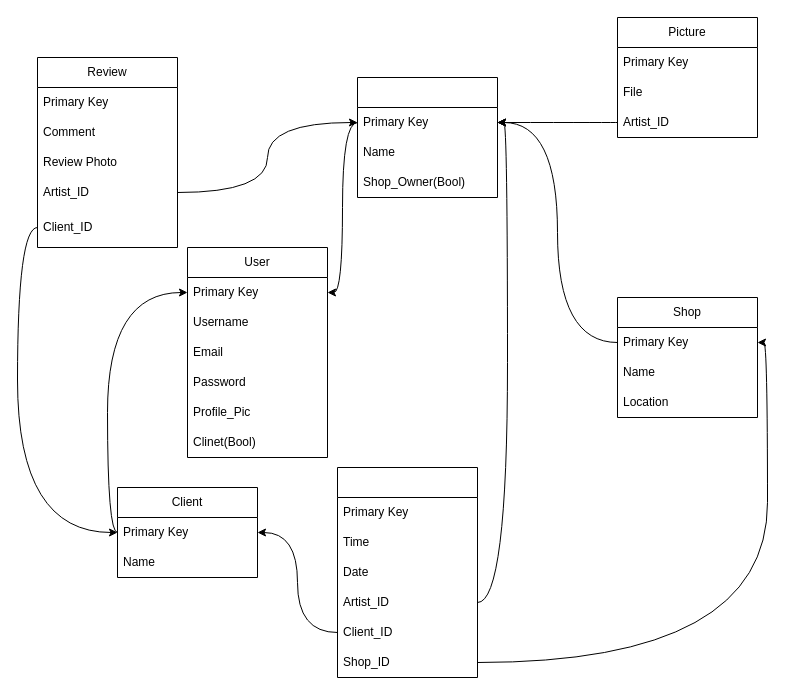
Image size: 785x695. Some labels were removed from this diagram. The shapes that lost their labels are listed below. From the top down, each one's box as (x1, y1, x2, y2) in pixels, then its label:
(356, 76, 498, 198): Artist
(336, 466, 478, 678): Appt
